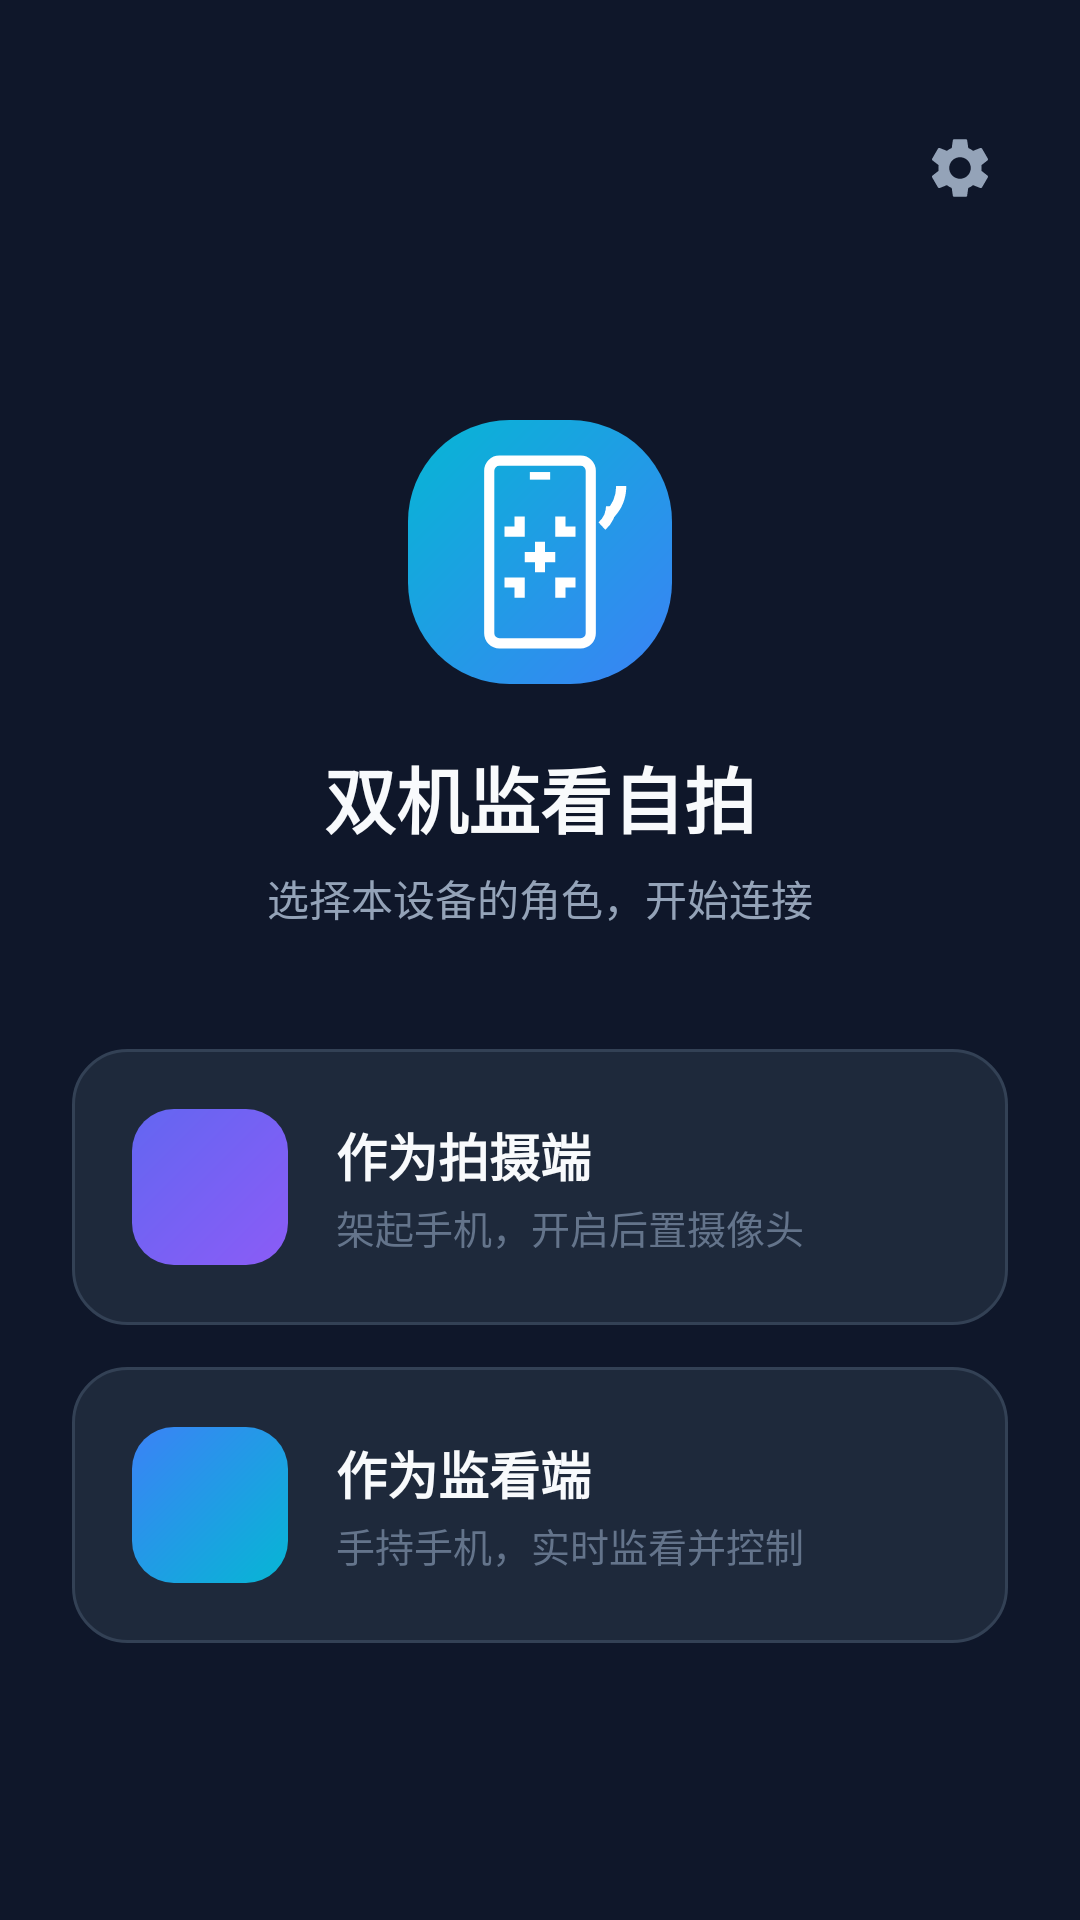

Named icons in this screenshot (1080×1920) and their centers, point (x, y):
设置: point (960, 168)
